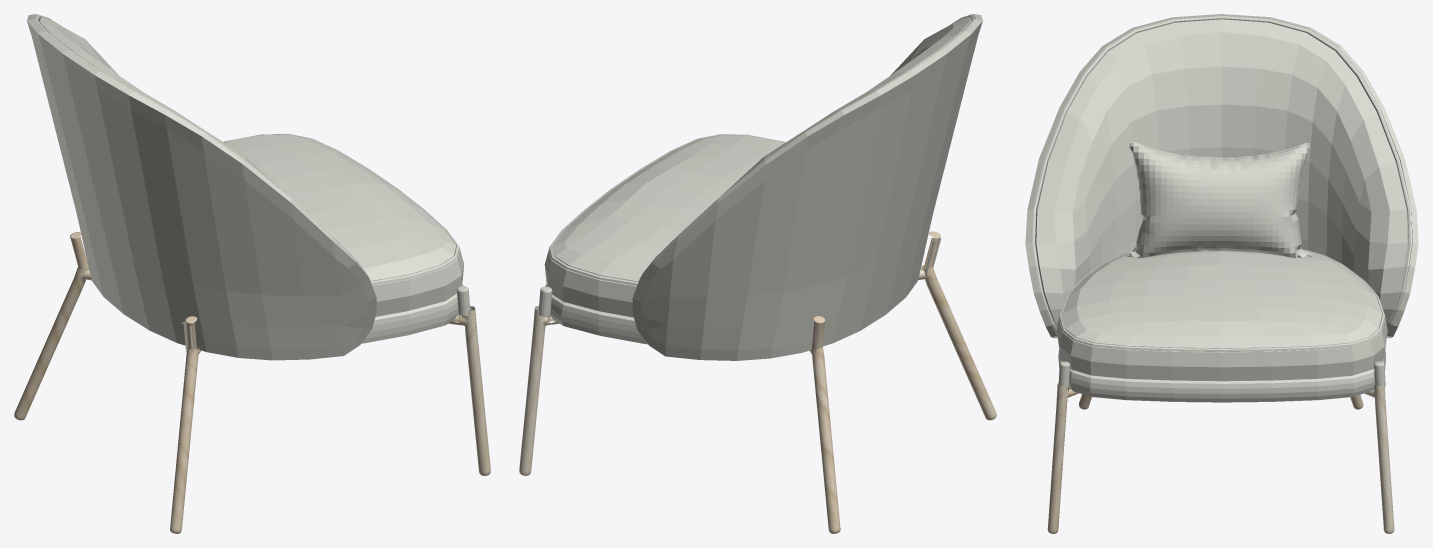
Rendered from NFG-I0010.glb.
3 views of the same model, side by side, from view 1: azimuth 30°, elevation 25°; view 2: azimuth 150°, elevation 25°; view 3: azimuth 270°, elevation 25° (orthographic). The views are drawn at different scales.
Parts seen in each view (by area): view 1: Armchair_Cloud; view 2: Armchair_Cloud; view 3: Armchair_Cloud.
Boxes of the visible parts, left/top/right/bottom form: Armchair_Cloud: left=14, top=14, right=490, bottom=533; Armchair_Cloud: left=519, top=14, right=996, bottom=533; Armchair_Cloud: left=1025, top=14, right=1418, bottom=533.
Bounding box in the file's own units: 1.65 × 2 × 1.87.
Materials: 2 (1 with a texture image).
